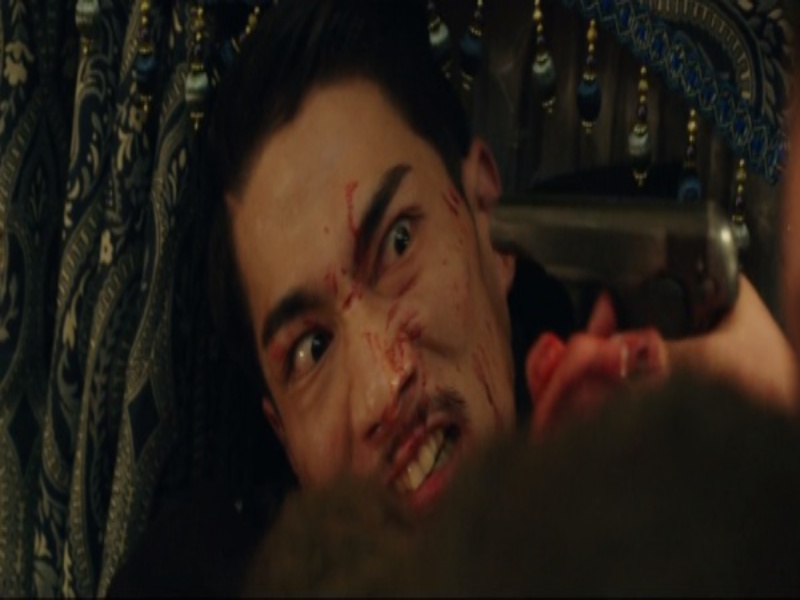person: (205, 106, 536, 505)
weapon: (487, 192, 725, 339)
